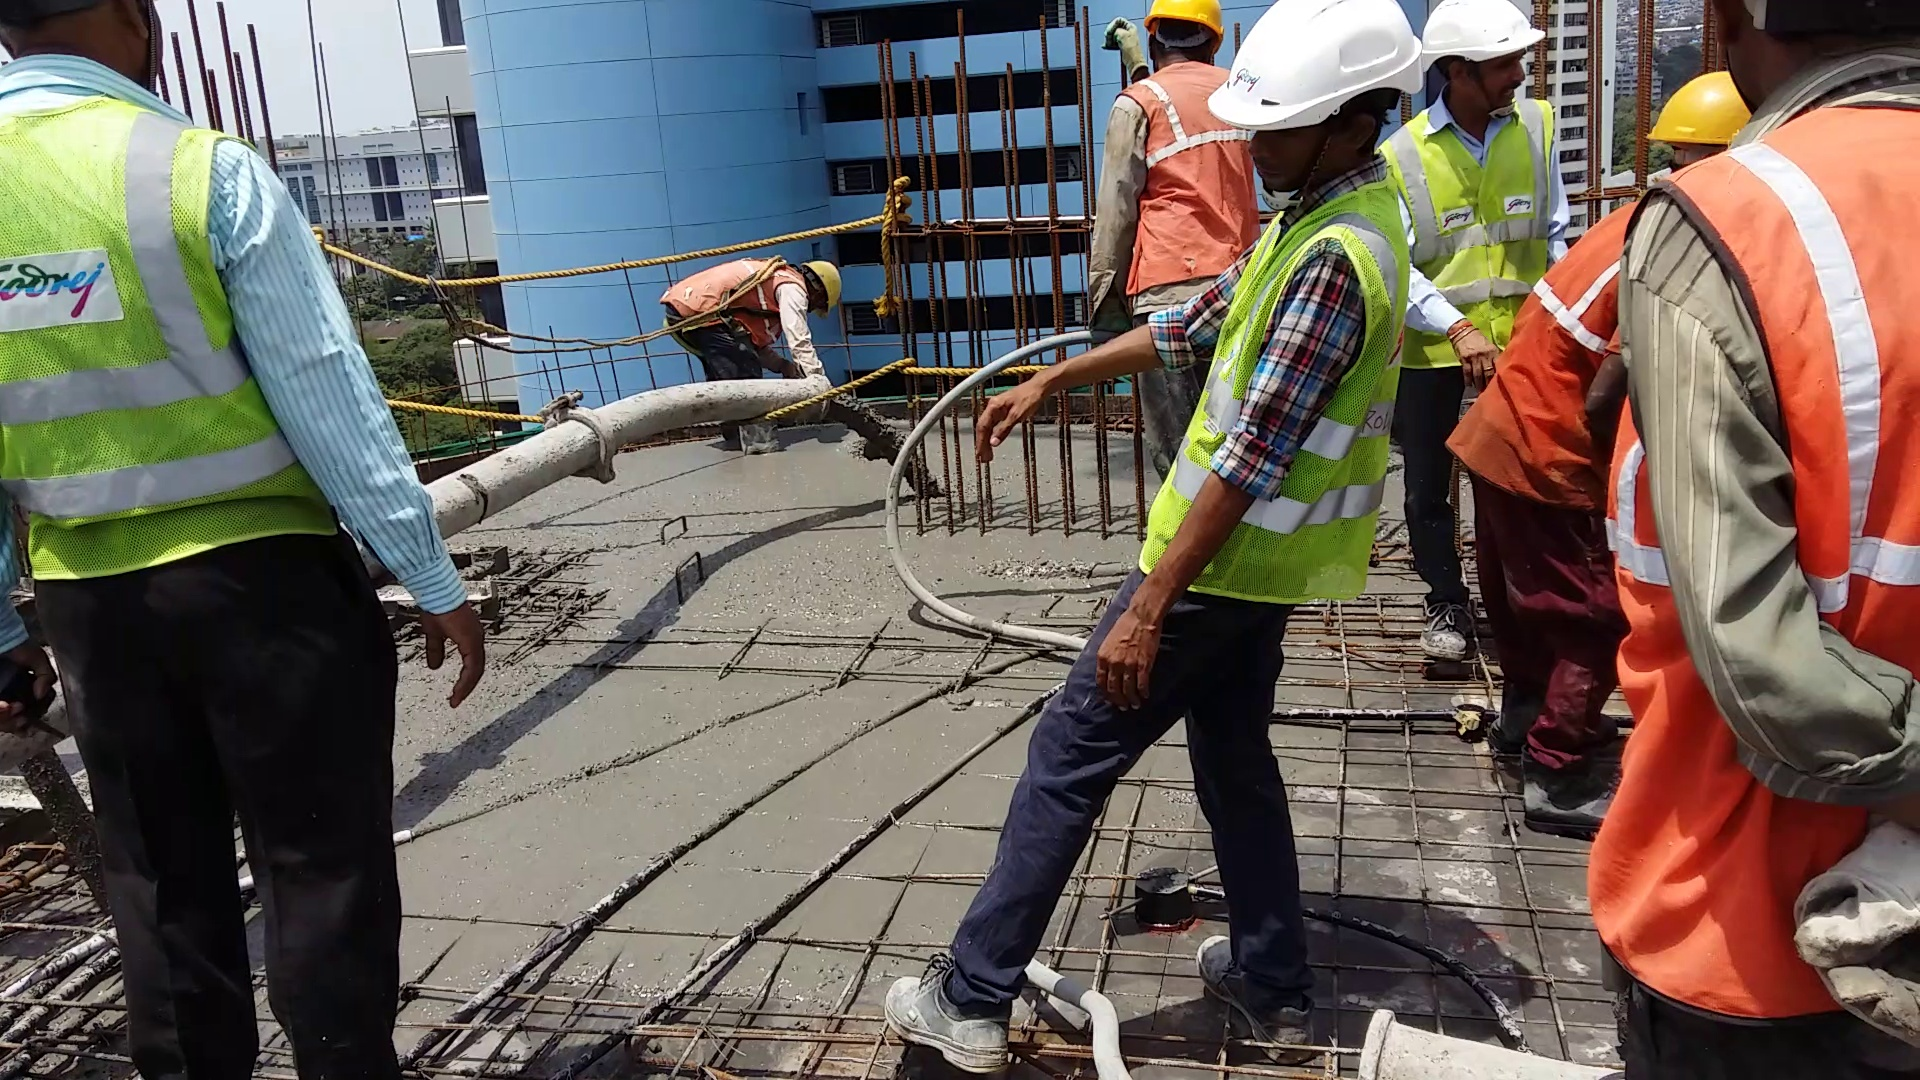SAFE: (1126, 4, 1443, 600), (1423, 5, 1596, 407), (1084, 9, 1273, 302)
